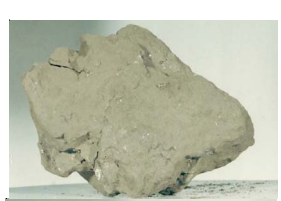Breccia: (13, 31, 262, 191), (53, 50, 196, 155)
